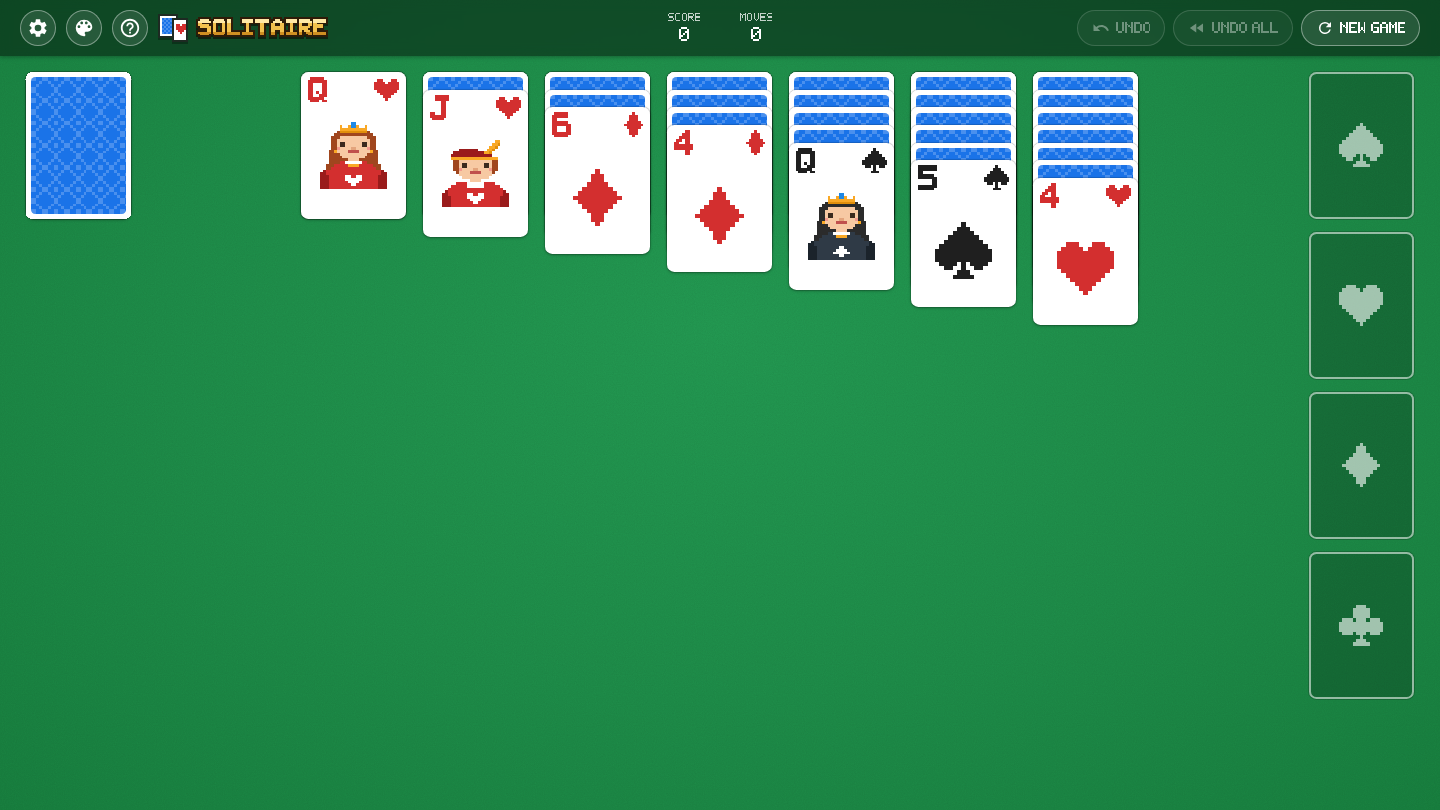
Scenario: settings menu › ☰ opens the panel, moves focus into it, and toggles aria-expanded
Click the button named "Settings".
click(38, 28)  # box x1=20 y1=10 x2=56 y2=46
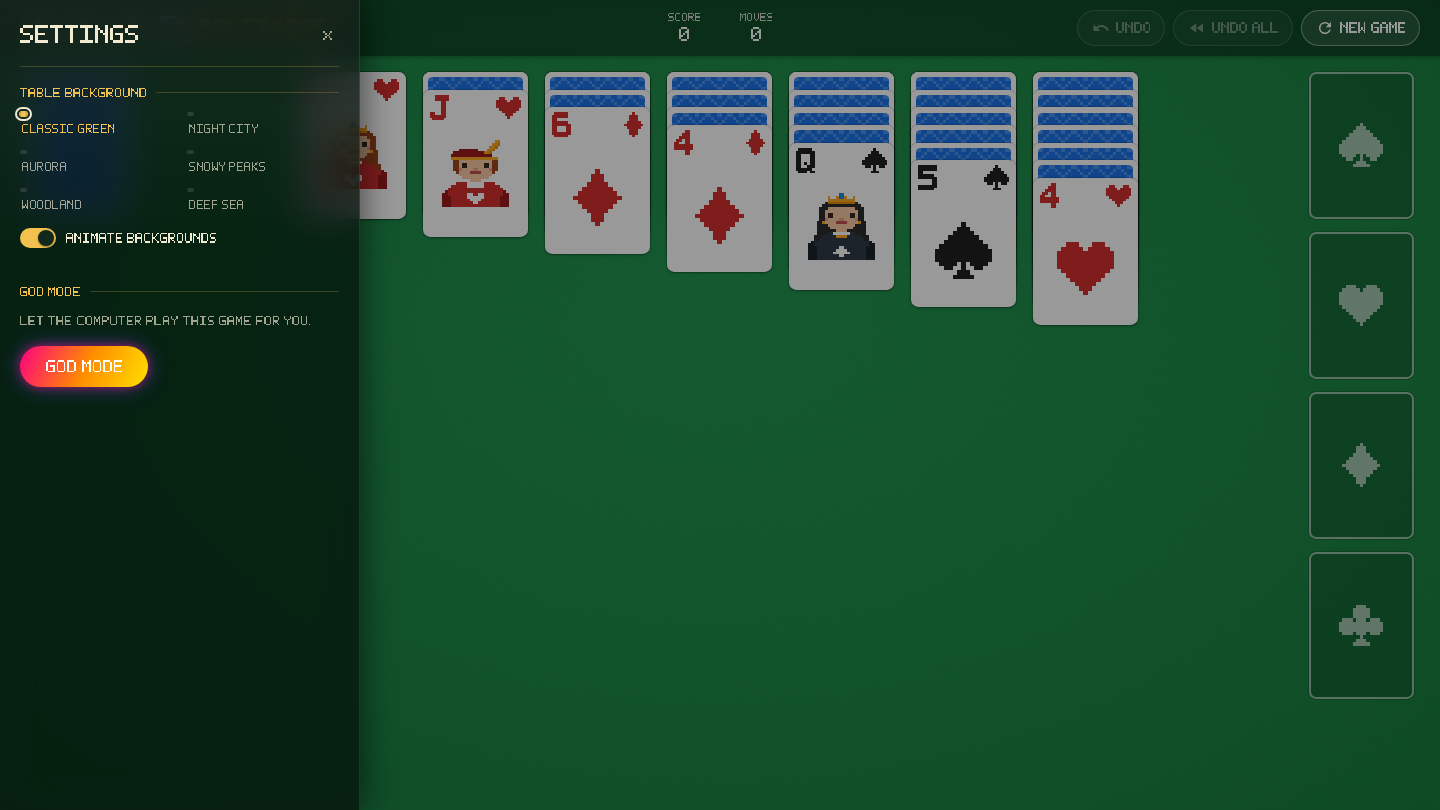
Expected: the button named "Settings" is expanded, x1=20 y1=10 x2=56 y2=46
Expected: the dialog named "Settings" is shown, x1=0 y1=0 x2=360 y2=809
